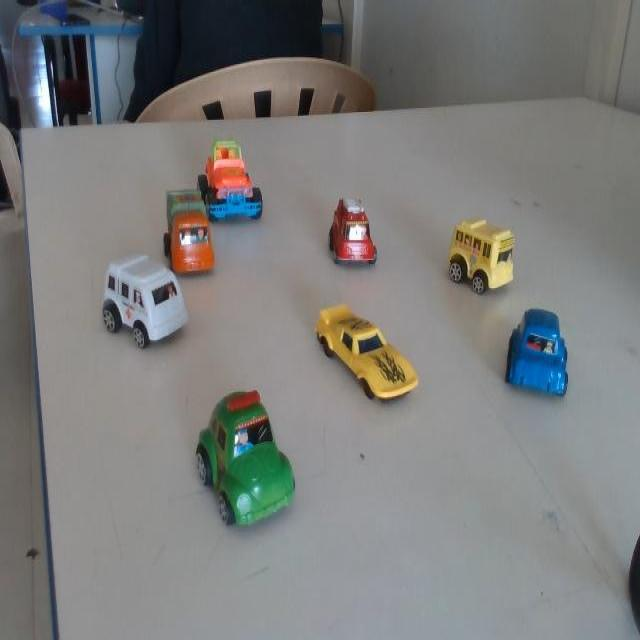car: (189, 392, 298, 522), (99, 245, 191, 359), (314, 307, 413, 397), (202, 132, 276, 226), (505, 309, 571, 396), (159, 182, 216, 282), (442, 220, 510, 299), (318, 192, 378, 278)
